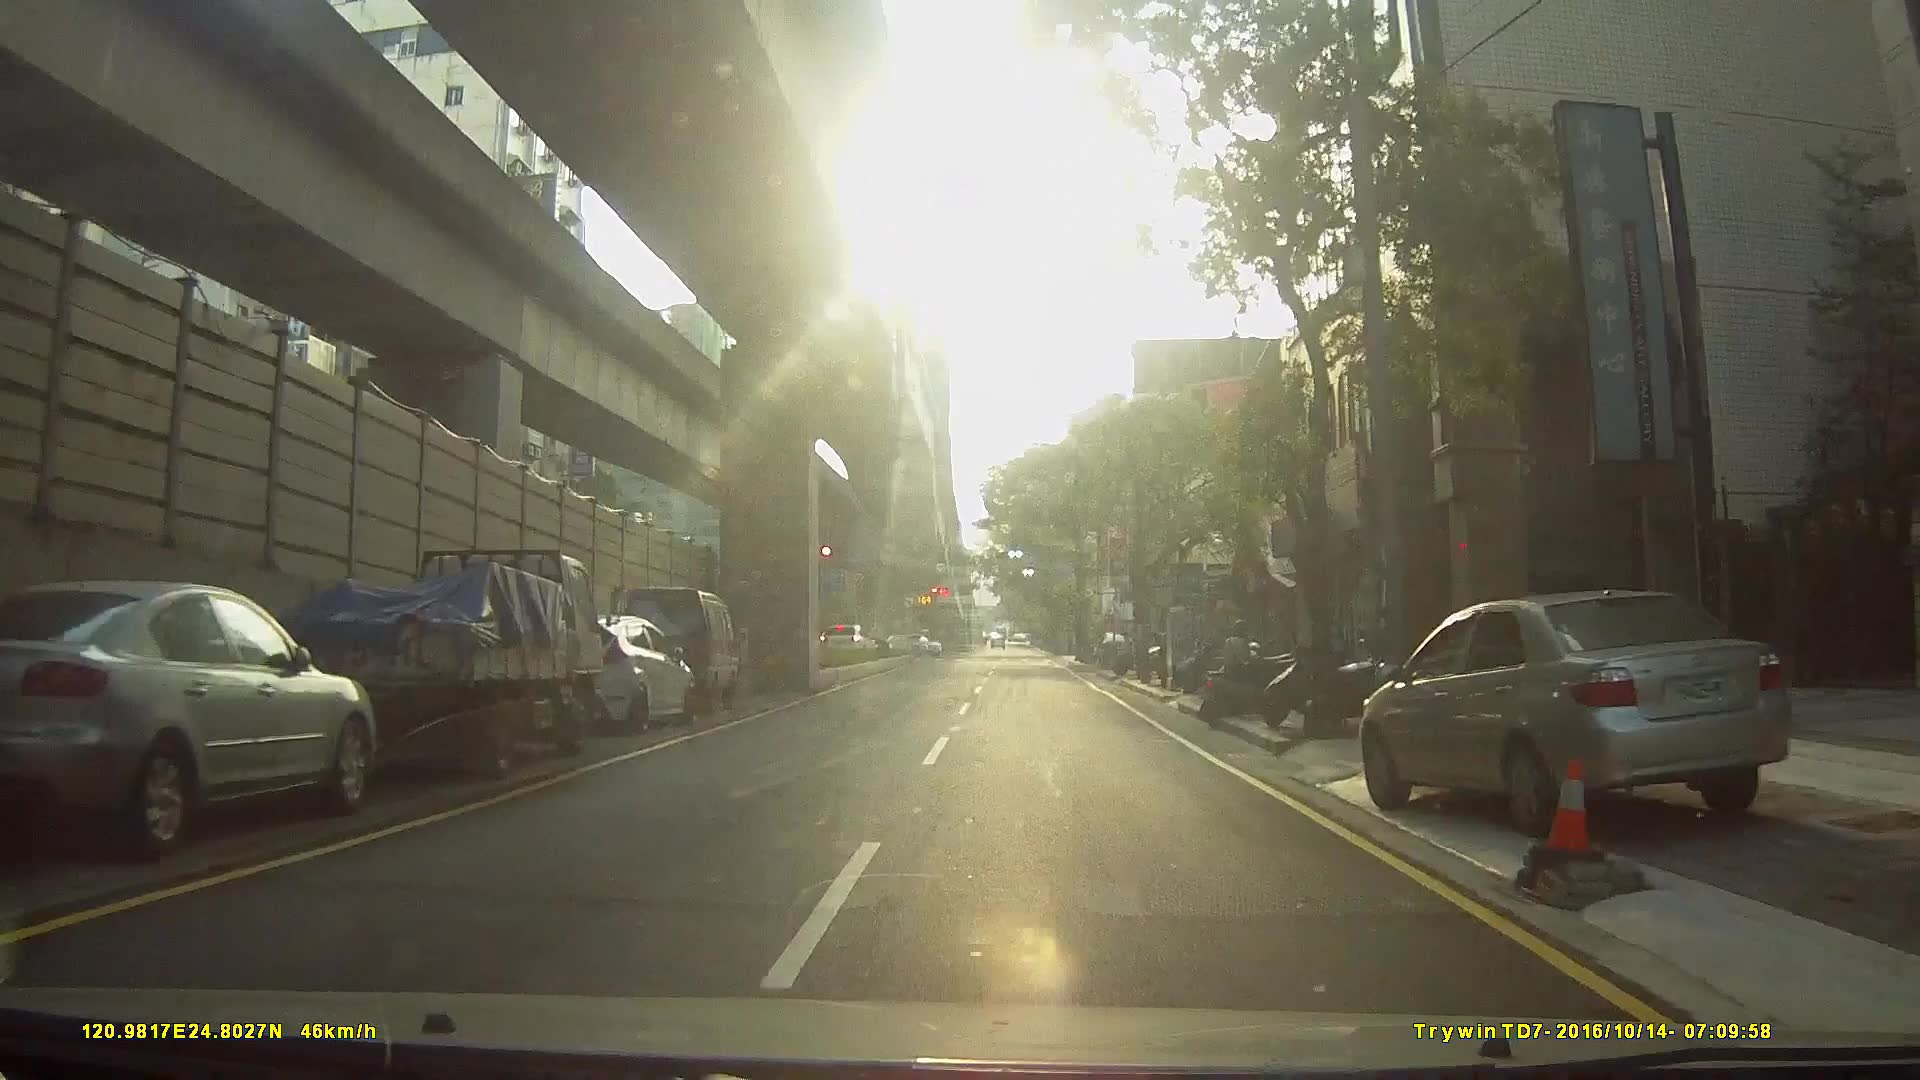rider: (1194, 612, 1287, 728)
vehicle: (1334, 578, 1830, 827), (5, 562, 391, 867), (230, 538, 629, 776), (524, 607, 693, 735), (609, 582, 739, 713), (817, 621, 875, 658), (1093, 630, 1139, 668)
